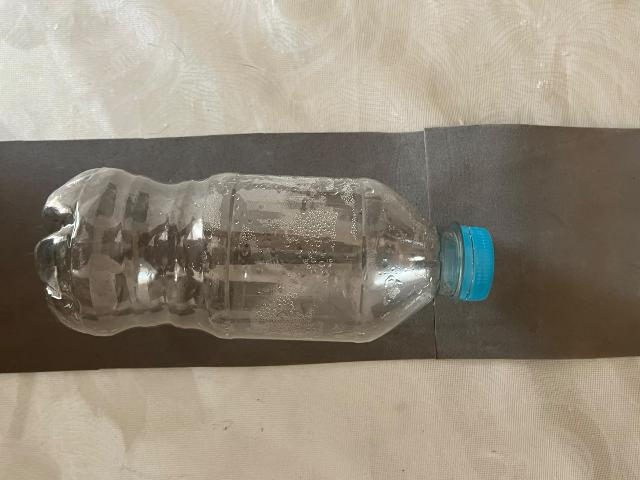PET: (17, 114, 565, 394)
